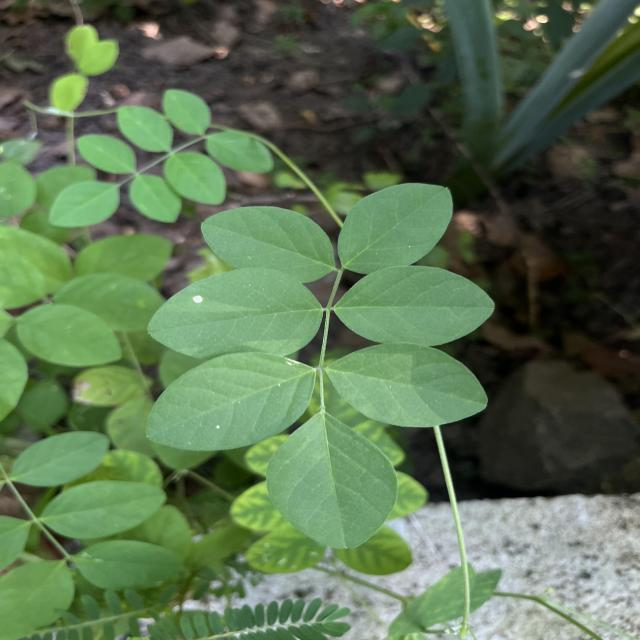Clitoria ternatea: (264, 410, 402, 552), (144, 349, 318, 453), (145, 264, 326, 360), (324, 339, 491, 429), (331, 264, 497, 347), (336, 182, 456, 276), (200, 204, 338, 284)
